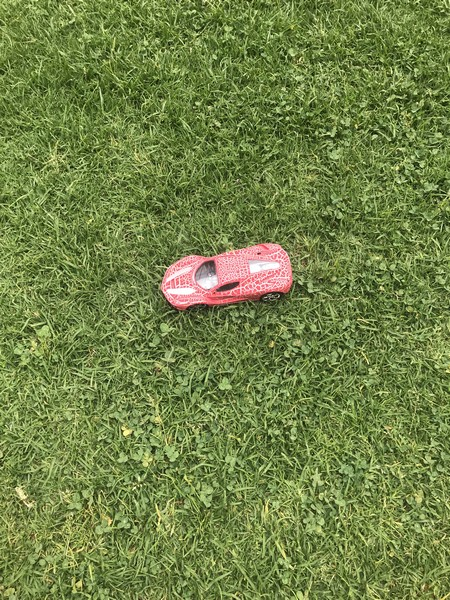RC: (159, 240, 291, 316)
